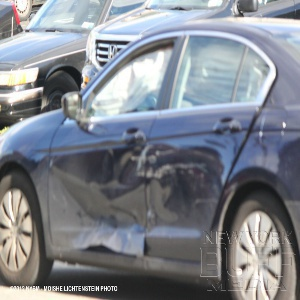door: (60, 149, 187, 262)
